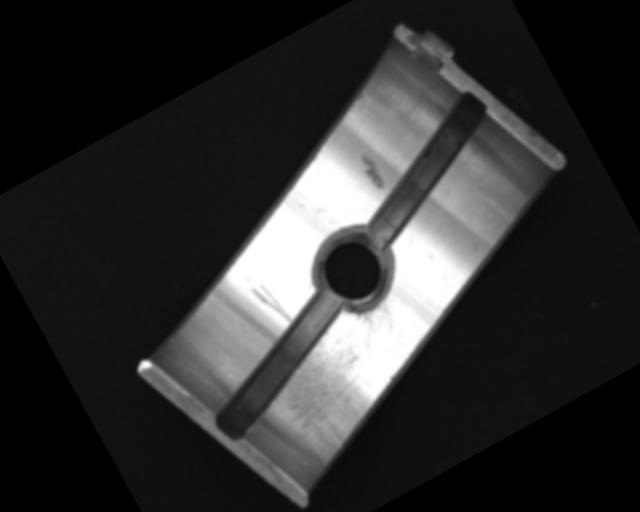bruise: (355, 148, 392, 193)
gap: (325, 88, 522, 256), (185, 288, 371, 444)
hole: (302, 218, 406, 321)
nick: (249, 277, 294, 333)
scratch: (256, 286, 454, 474)
